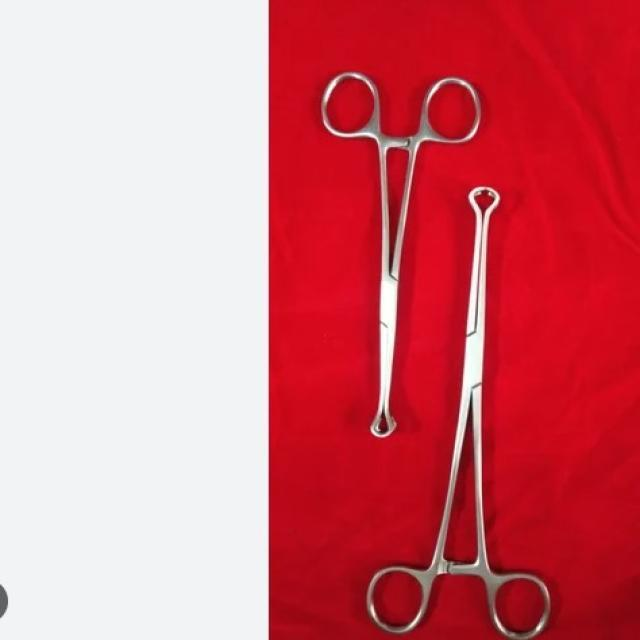Babcock Forceps: (368, 178, 592, 636), (320, 58, 482, 440)
